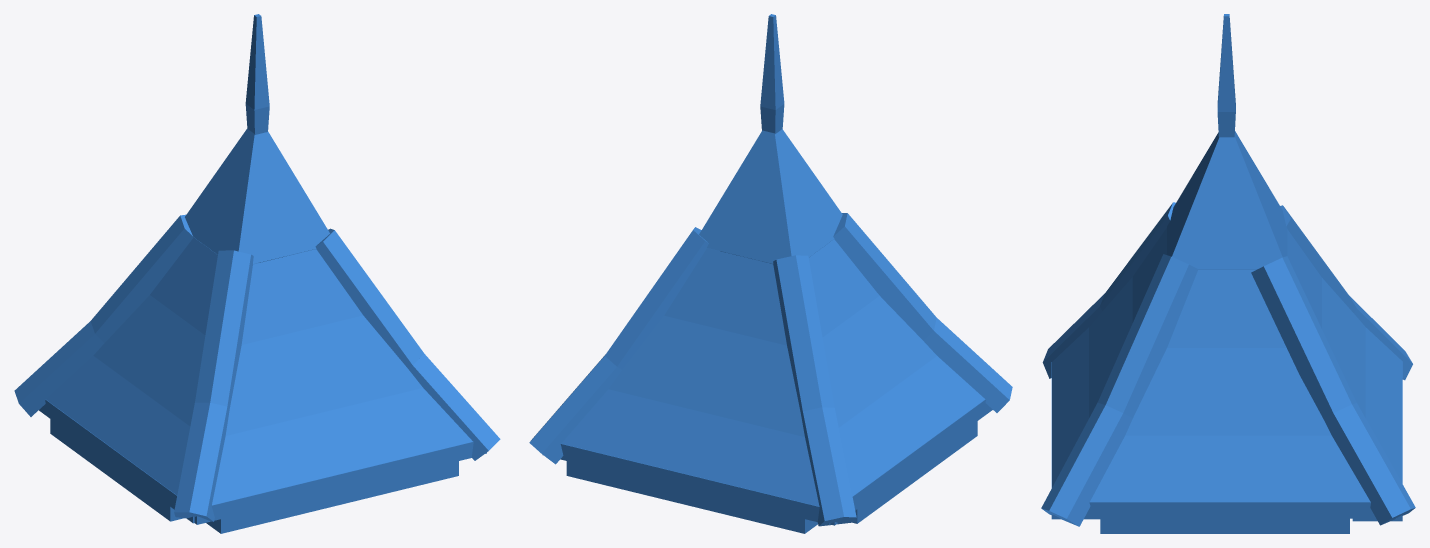
Rendered from Collision_Roof_Tower_RoundTiles.fbx.
3 views of the same model, side by side, from view 1: azimuth 30°, elevation 25°; view 2: azimuth 150°, elevation 25°; view 3: azimuth 270°, elevation 25° (orthographic). The views are drawn at different scales.
Visible parts, largest first — view 1: UCX_Roof_Tower_RoundTiles_01; view 2: UCX_Roof_Tower_RoundTiles_01; view 3: UCX_Roof_Tower_RoundTiles_01.
Boxes of the visible parts, x1,y1,x2,y2 form: UCX_Roof_Tower_RoundTiles_01: [14, 14, 500, 533]; UCX_Roof_Tower_RoundTiles_01: [529, 14, 1012, 533]; UCX_Roof_Tower_RoundTiles_01: [1041, 14, 1415, 533].
Size of the model in its own units: 584 by 738 by 564.
